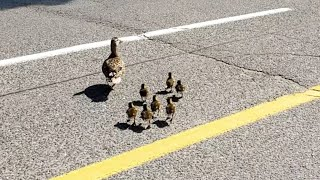duck: (100, 36, 124, 89)
duckling: (164, 96, 177, 126), (125, 100, 138, 128), (142, 102, 155, 129), (138, 81, 150, 102), (175, 78, 186, 97), (165, 71, 175, 90), (150, 97, 160, 115)
